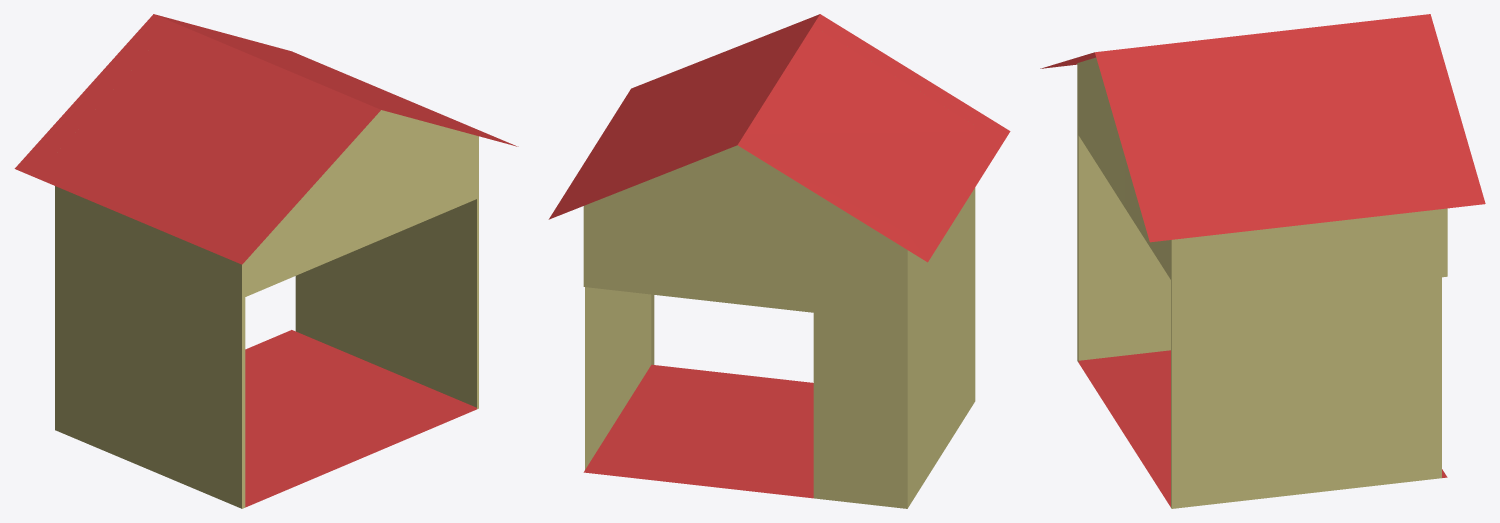
3 views of the same model, side by side, from view 1: azimuth 30°, elevation 25°; view 2: azimuth 150°, elevation 25°; view 3: azimuth 270°, elevation 25° (orthographic). The views are drawn at different scales.
Size of the model in its own units: 12.1 by 10.78 by 10.3.
